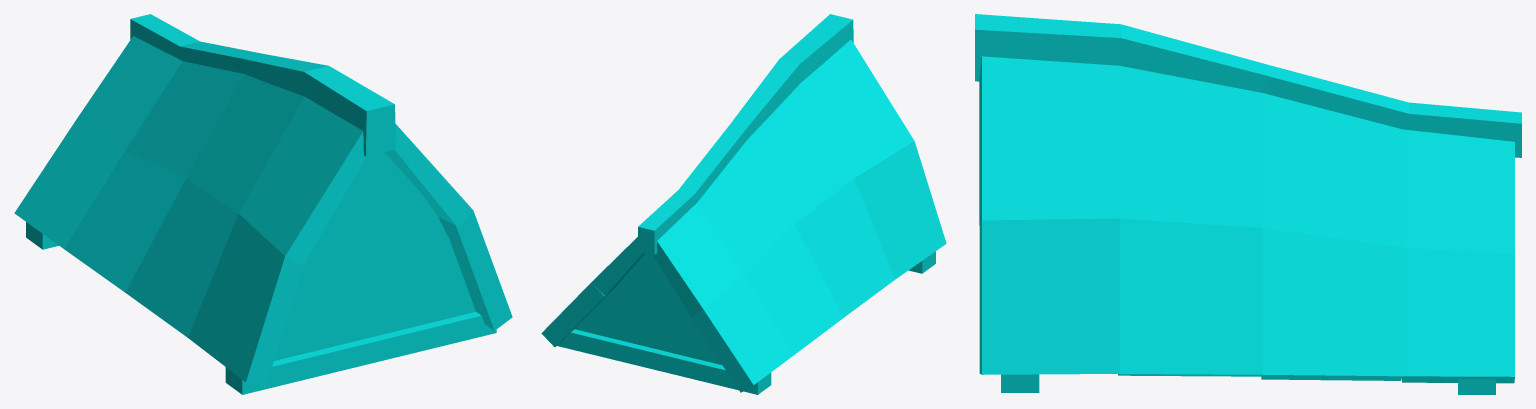
File: SM_Bld_Roof_Thatch_Preset_L_01_Collision.fbx
3 views of the same model, side by side, from view 1: azimuth 30°, elevation 25°; view 2: azimuth 150°, elevation 25°; view 3: azimuth 270°, elevation 25° (orthographic). The views are drawn at different scales.
Visible parts, largest first — view 1: SM_Bld_Roof_Thatch_Preset_L_01_Collision; view 2: SM_Bld_Roof_Thatch_Preset_L_01_Collision; view 3: SM_Bld_Roof_Thatch_Preset_L_01_Collision.
Part boxes in pixels (bbox=[...]): SM_Bld_Roof_Thatch_Preset_L_01_Collision: bbox=[14, 14, 512, 394]; SM_Bld_Roof_Thatch_Preset_L_01_Collision: bbox=[541, 14, 946, 394]; SM_Bld_Roof_Thatch_Preset_L_01_Collision: bbox=[975, 14, 1521, 394].
Size of the model in its own units: 575 by 549 by 897.
